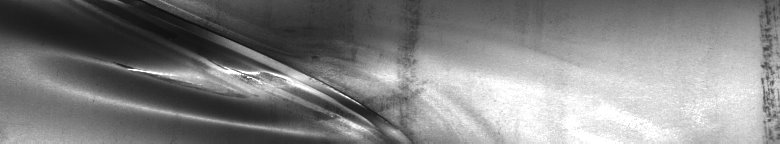ke: (42, 4, 416, 136)
